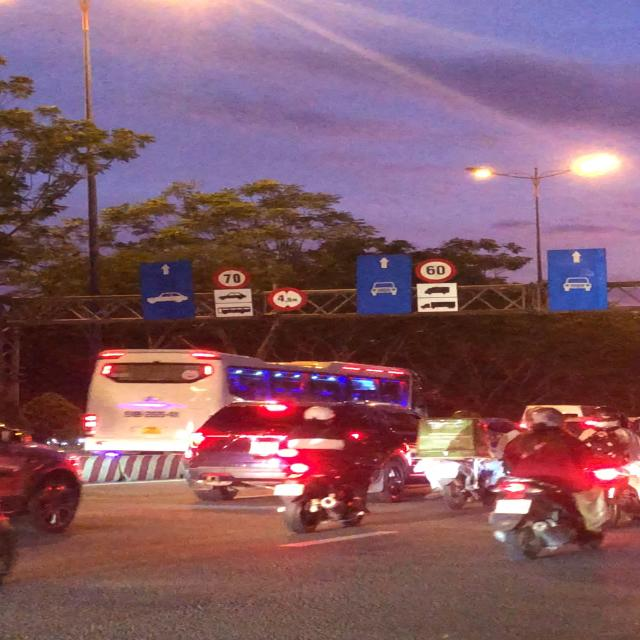Bien bao han che chieu cao: (264, 284, 308, 315)
Bien bao toc do toi da cho phep: (413, 254, 460, 284), (209, 264, 252, 292)
